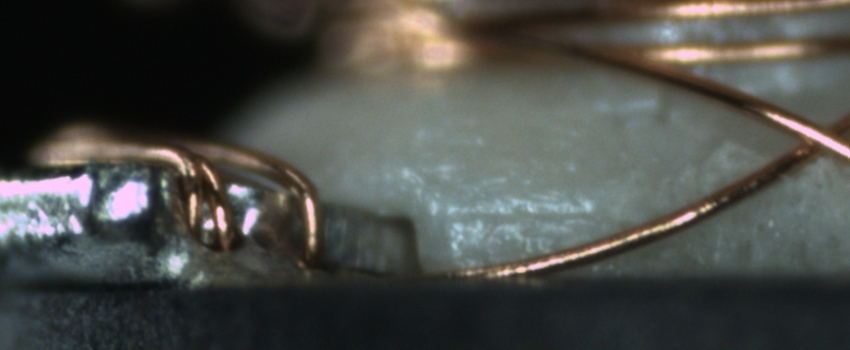CL: (769, 105, 848, 172)
DL: (441, 185, 625, 249)
TE: (24, 117, 332, 271)
